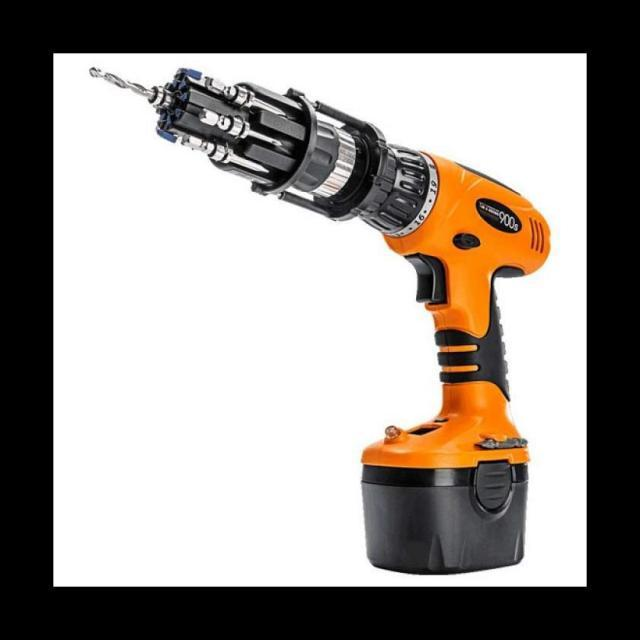drill: (89, 66, 553, 578)
